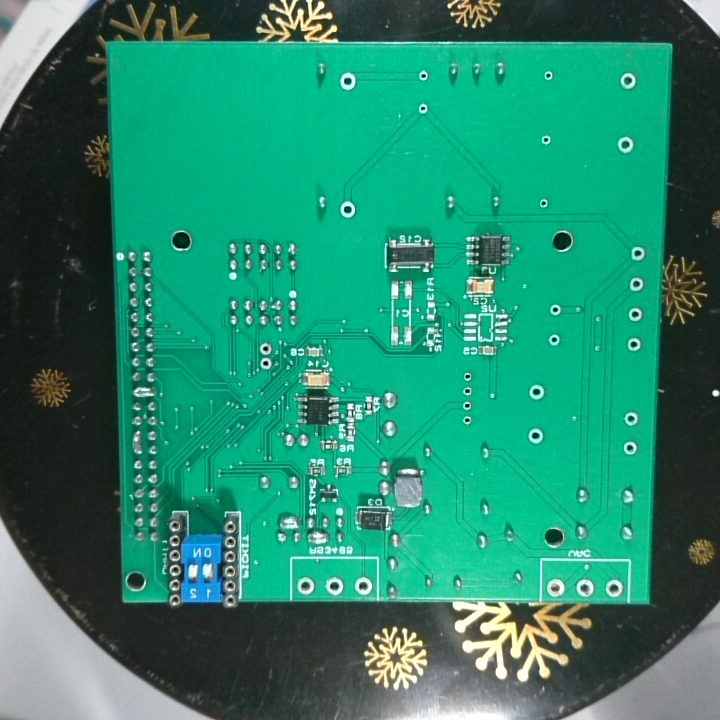F: (351, 572, 375, 598), (614, 133, 637, 157), (574, 575, 597, 598), (336, 198, 359, 219), (544, 575, 565, 598), (324, 574, 345, 597), (526, 425, 546, 449), (526, 382, 548, 403), (337, 69, 357, 92), (617, 69, 637, 92), (603, 576, 623, 599), (296, 574, 316, 597), (626, 273, 646, 295), (629, 243, 648, 265), (624, 334, 643, 355), (621, 408, 640, 429), (625, 303, 644, 323), (621, 437, 639, 458), (458, 396, 477, 414), (457, 383, 477, 400), (545, 329, 562, 349), (536, 132, 554, 150), (257, 339, 275, 356), (415, 66, 431, 85), (459, 369, 477, 385), (547, 301, 563, 319), (415, 99, 430, 118), (540, 66, 555, 85), (258, 355, 273, 373), (459, 412, 474, 427), (535, 195, 551, 209)
P: (277, 512, 300, 532), (129, 385, 158, 400), (130, 429, 145, 458), (305, 531, 329, 546)
